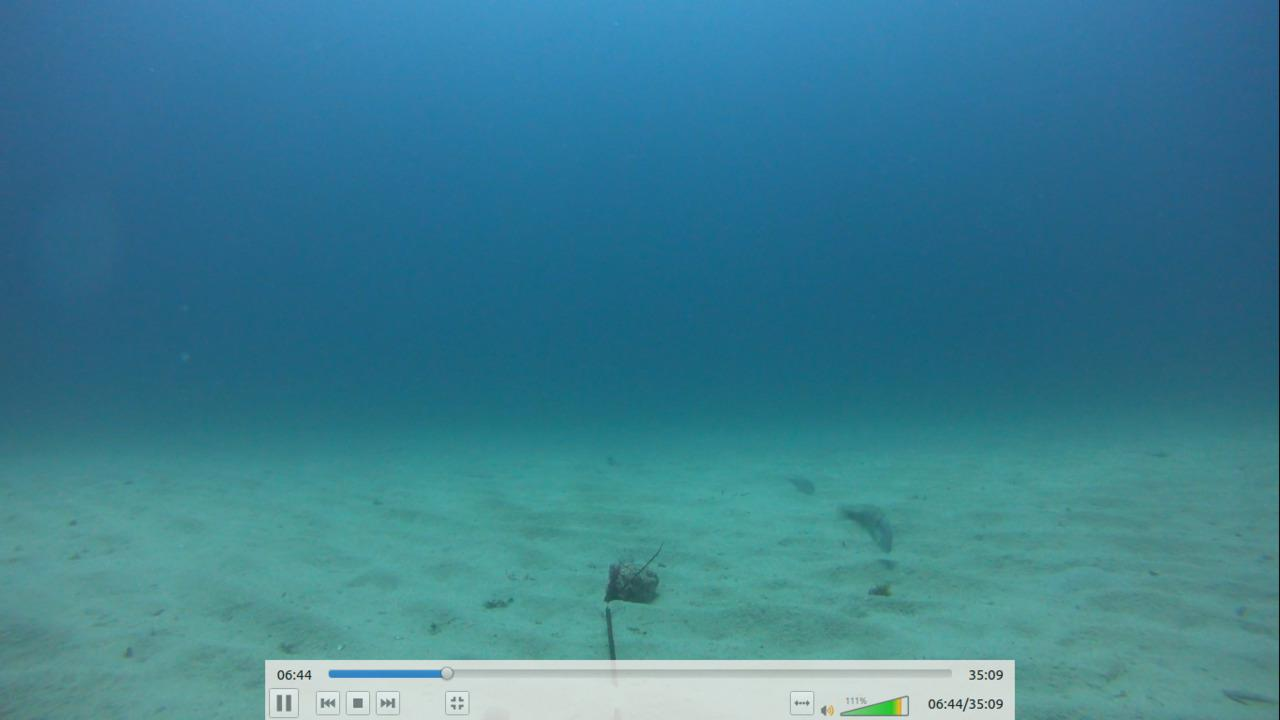raor: (829, 497, 904, 549)
